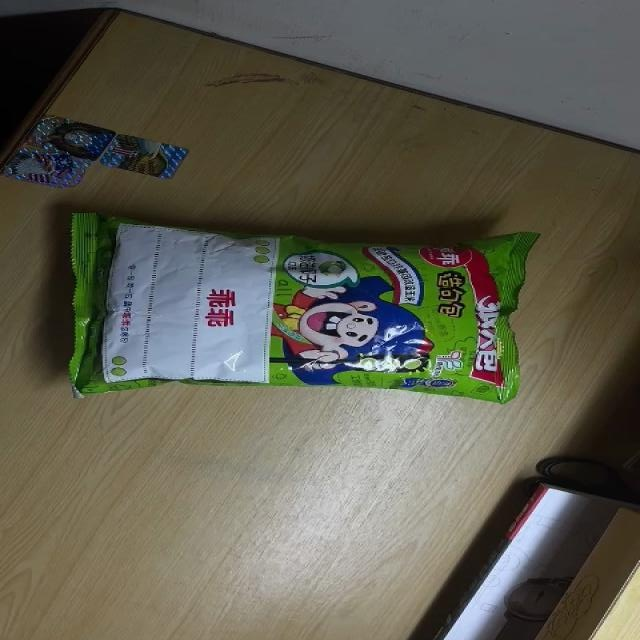Good-Luck: (70, 215, 541, 407)
